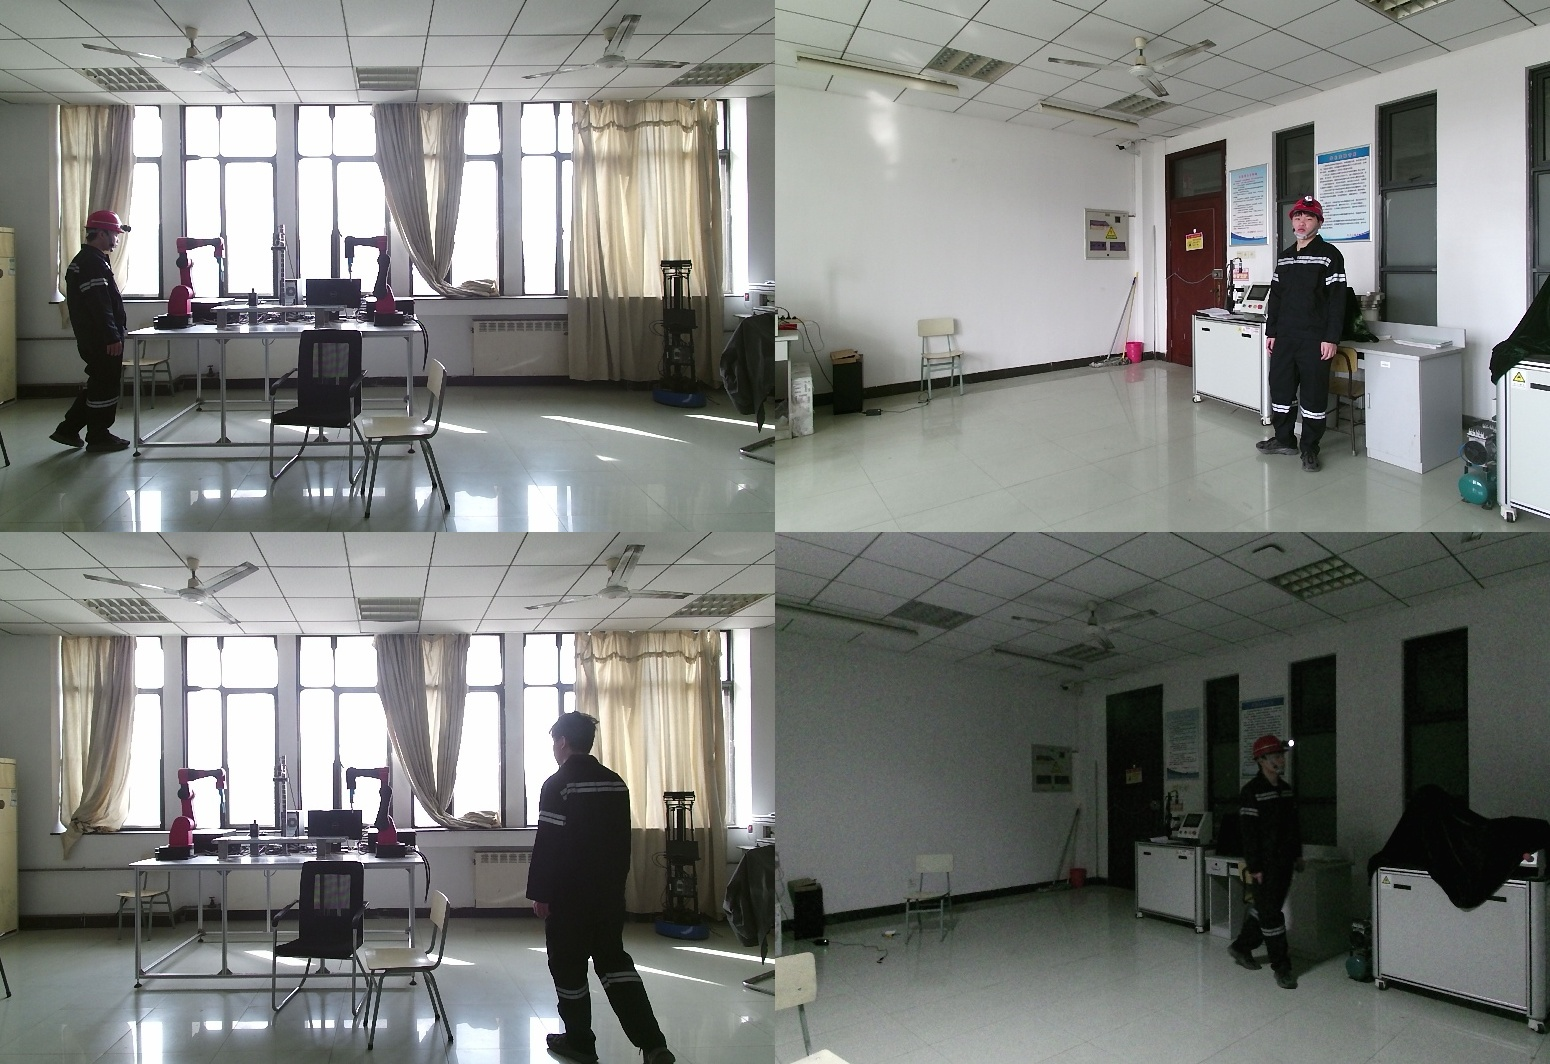person: (530, 710, 675, 1064), (1264, 195, 1356, 470), (49, 211, 138, 456), (1229, 736, 1310, 989)
